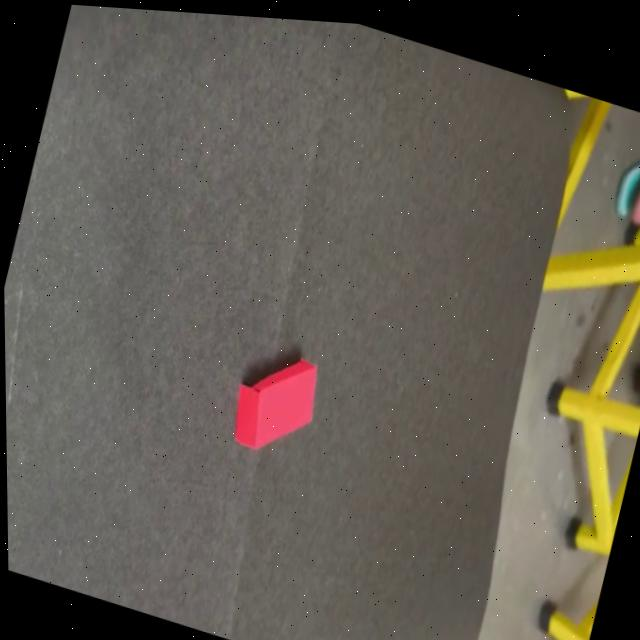red block: (224, 338, 327, 466)
